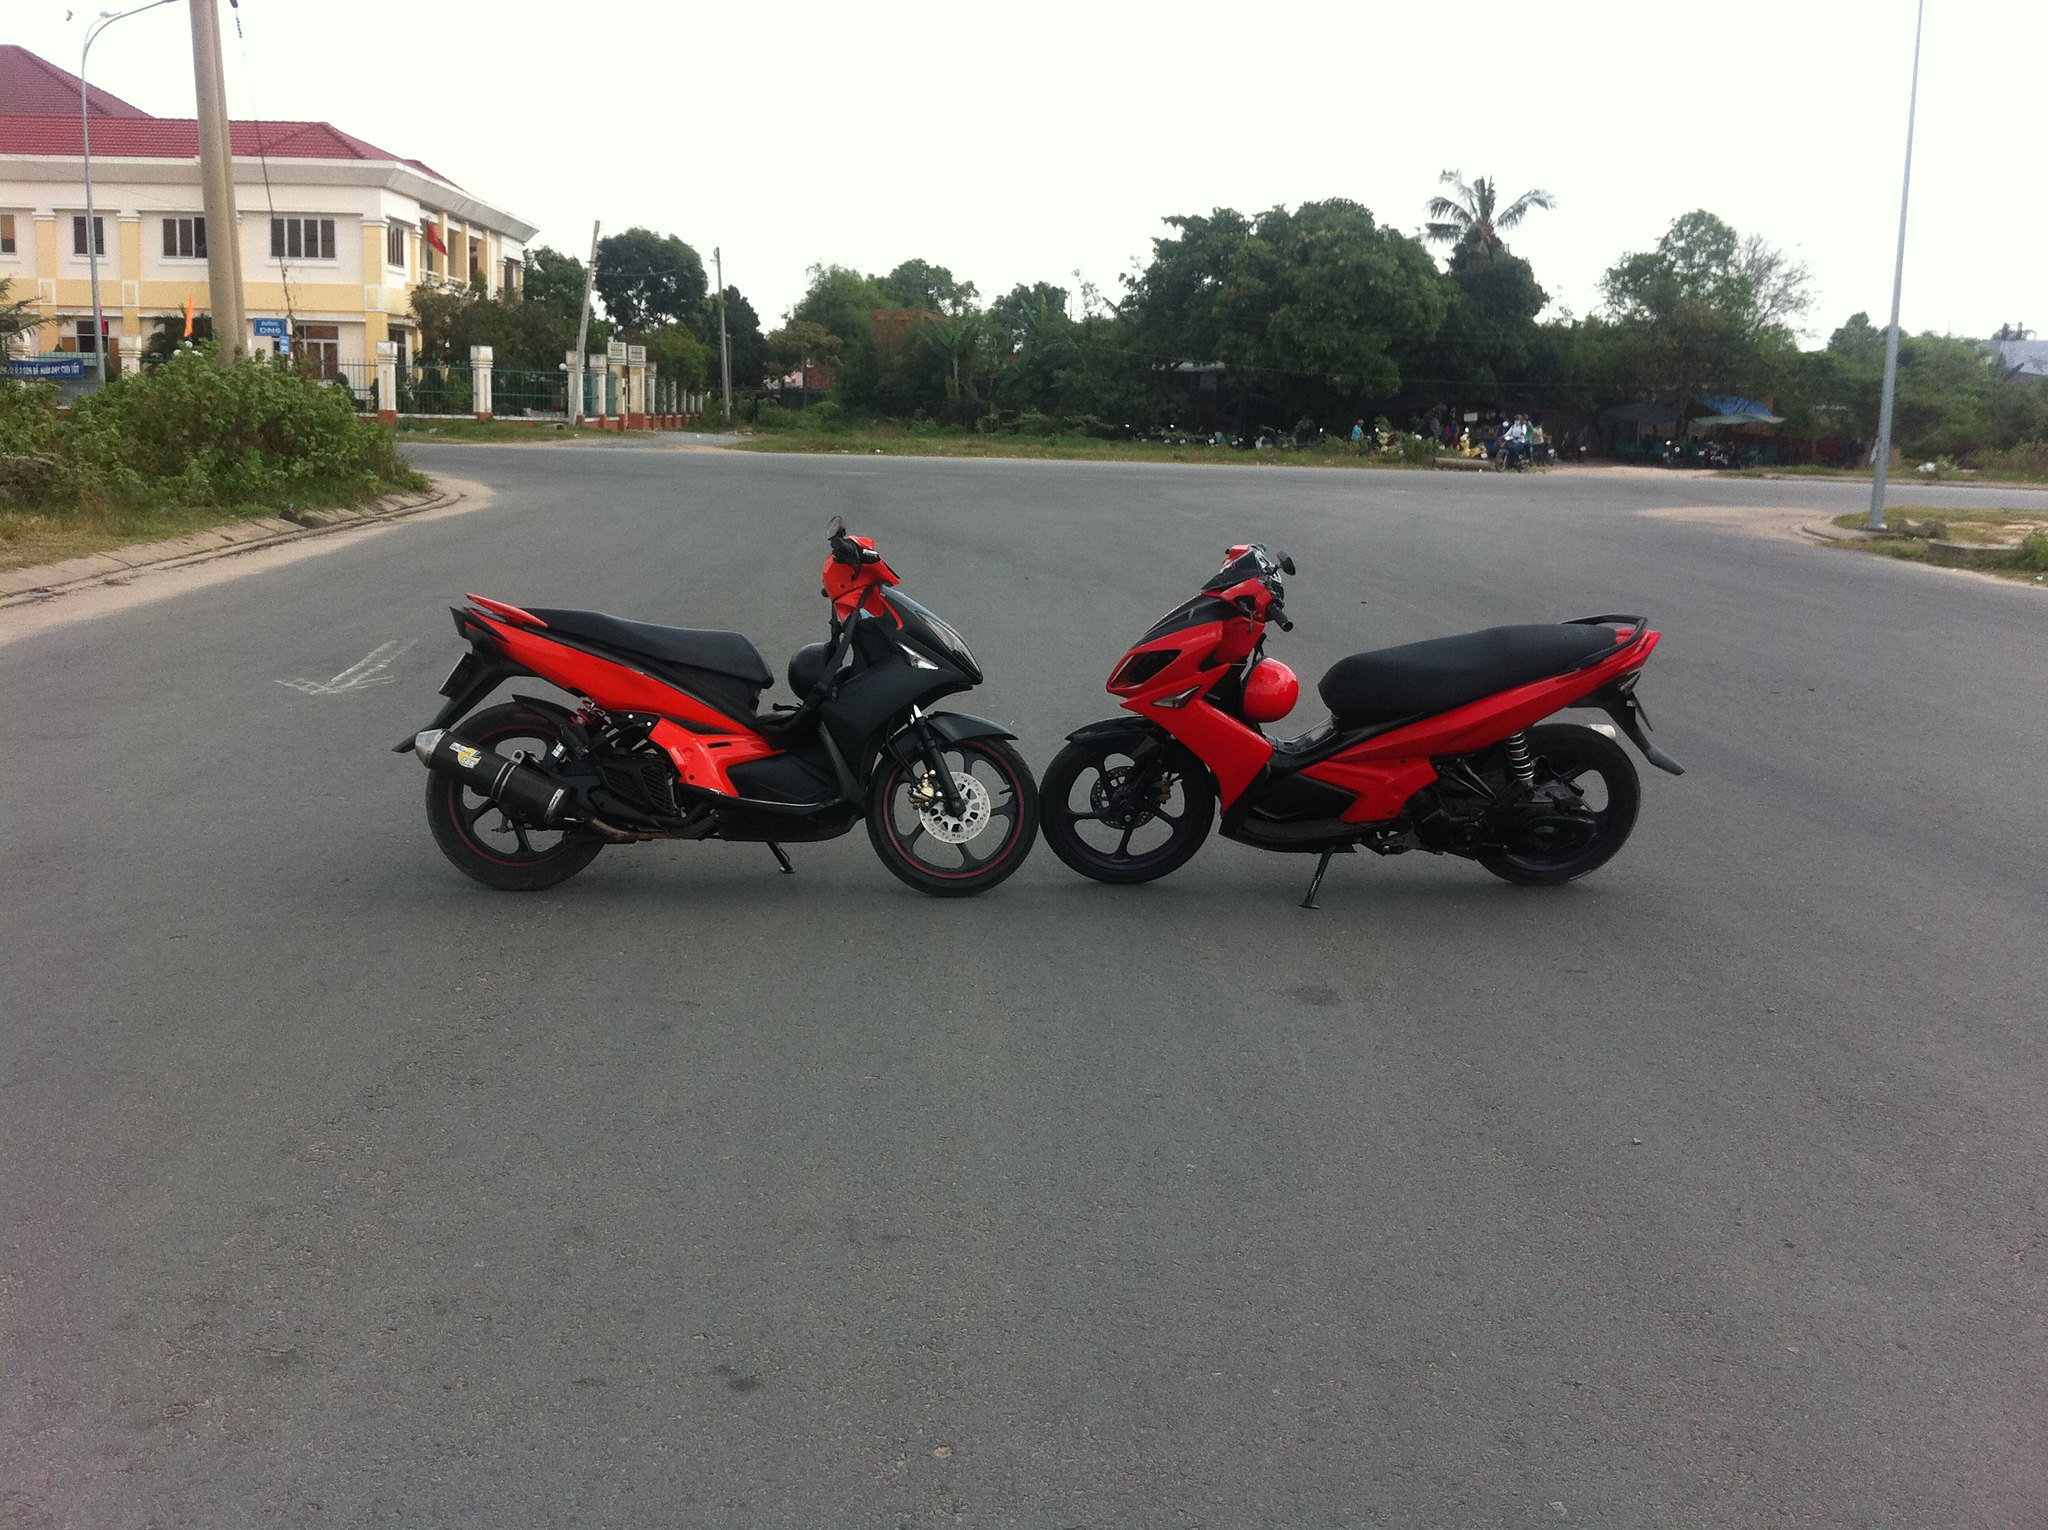motor bike: (1034, 514, 1712, 894), (432, 519, 1038, 903)
